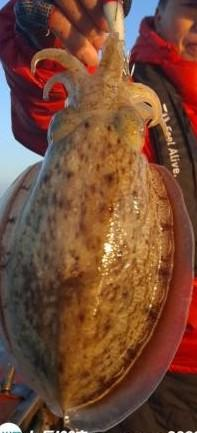Cephalopod: (0, 27, 194, 432)
